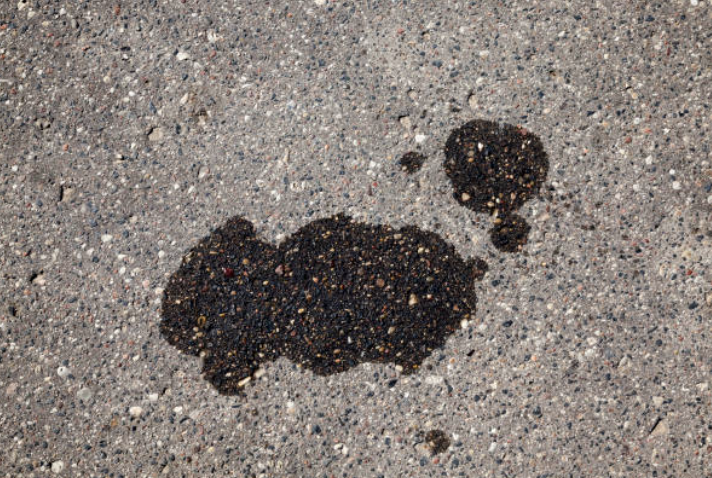oil: (78, 106, 245, 199), (221, 58, 274, 125)
